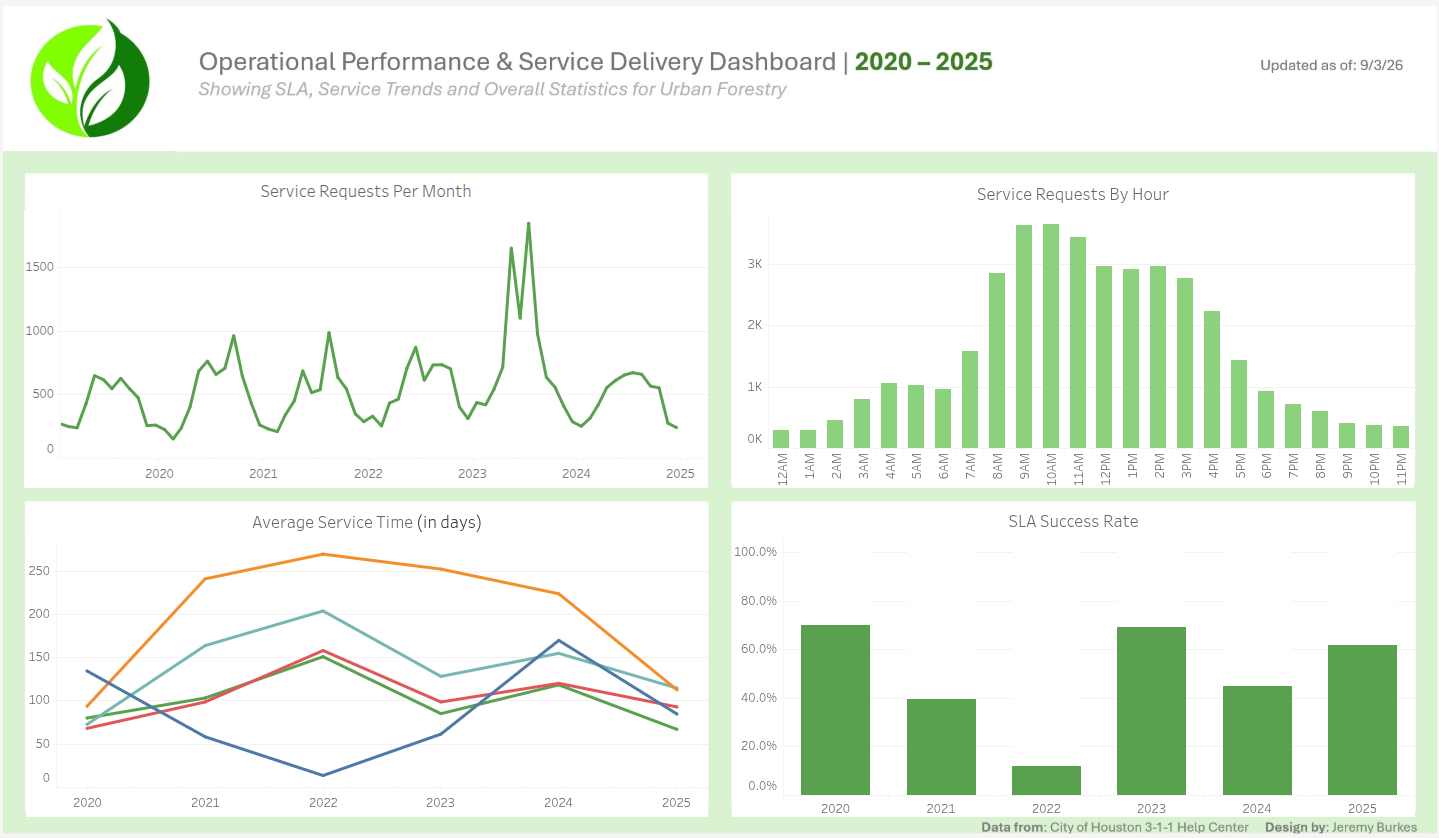

What the dashboard file says about the page in this screenshot:
{"tool":"tableau","page":{"name":"Performance Dashboard","canvas":[1450,850],"ordinal":2},"visuals":[{"type":"image","param":"Image/Dashboard - SLA Analysis.jpg","box":[8,8,1434,834]},{"type":"worksheet","title":"Service Requests Per Month","mark":"Automatic","rows":["fact_d365srs.csv_FB66E9B32E02463490894B035F55B3E5"],"cols":["date_key (dim_date.csv)"],"box":[29,177,684,316]},{"type":"worksheet","title":"Service Requests By Hour","mark":"Bar","rows":["fact_d365srs.csv_FB66E9B32E02463490894B035F55B3E5"],"cols":["created_on"],"box":[737,180,682,313]},{"type":"worksheet","title":"SLA Success Rate","mark":"Bar","cols":["date_key (dim_date.csv)"],"box":[737,507,683,315]},{"type":"worksheet","title":"Average Service Time","mark":"Automatic","rows":["Calculation_0014746456080461"],"cols":["date_key (dim_date.csv)"],"box":[31,508,682,314]}]}

Visuals, with their boxes in screenshot pixels (x1, y1, x2, y2), scaled from the page's 1450x850 canvas onto the 1439x838 screenshot:
image: l=8, t=8, r=1431, b=830
"Service Requests Per Month" worksheet: l=29, t=175, r=708, b=486
"Service Requests By Hour" worksheet (Bar marks): l=731, t=177, r=1408, b=486
"SLA Success Rate" worksheet (Bar marks): l=731, t=500, r=1409, b=810
"Average Service Time" worksheet: l=31, t=501, r=708, b=810
